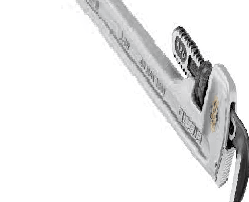Wrench: (62, 1, 245, 200)
